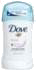grozi_45: (0, 2, 33, 69)
